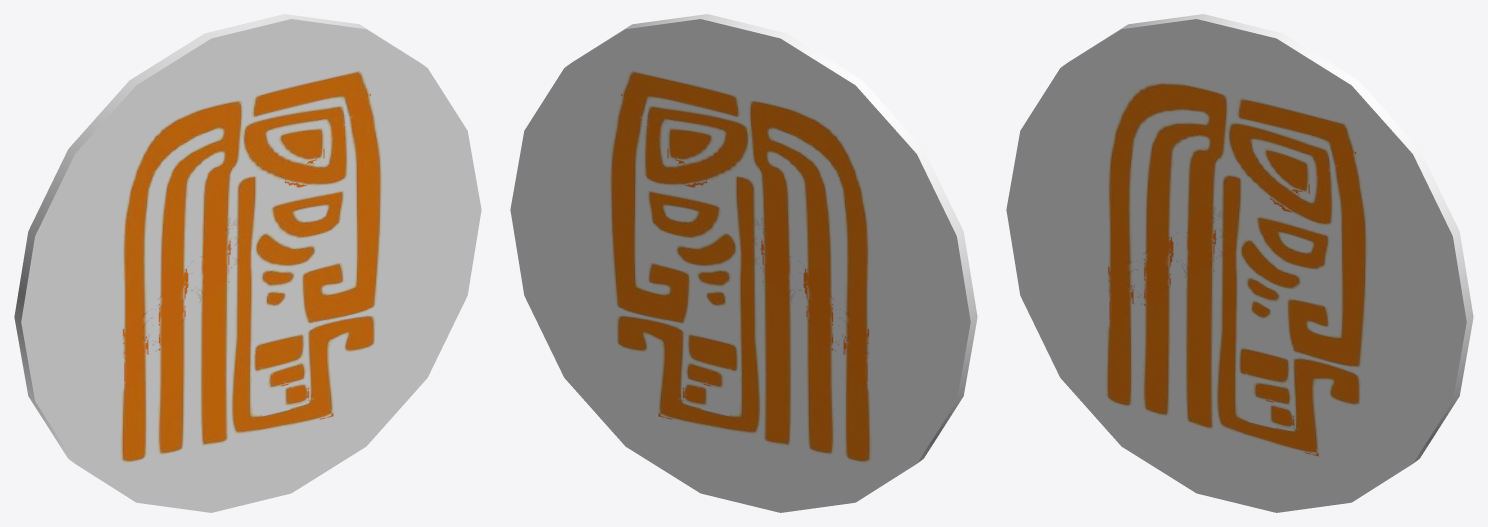
The model's file is Orange bird 2.FBX.
3 views of the same model, side by side, from view 1: azimuth 30°, elevation 25°; view 2: azimuth 150°, elevation 25°; view 3: azimuth 330°, elevation 25° (orthographic).
Parts seen in each view (by area): view 1: Cylinder001; view 2: Cylinder001; view 3: Cylinder001.
Part boxes in pixels (x1,y1,x2,y2): Cylinder001: (14, 14, 481, 512); Cylinder001: (510, 14, 977, 512); Cylinder001: (1006, 14, 1473, 512).
Bounding box in the file's own units: 217 × 214 × 5.57.
